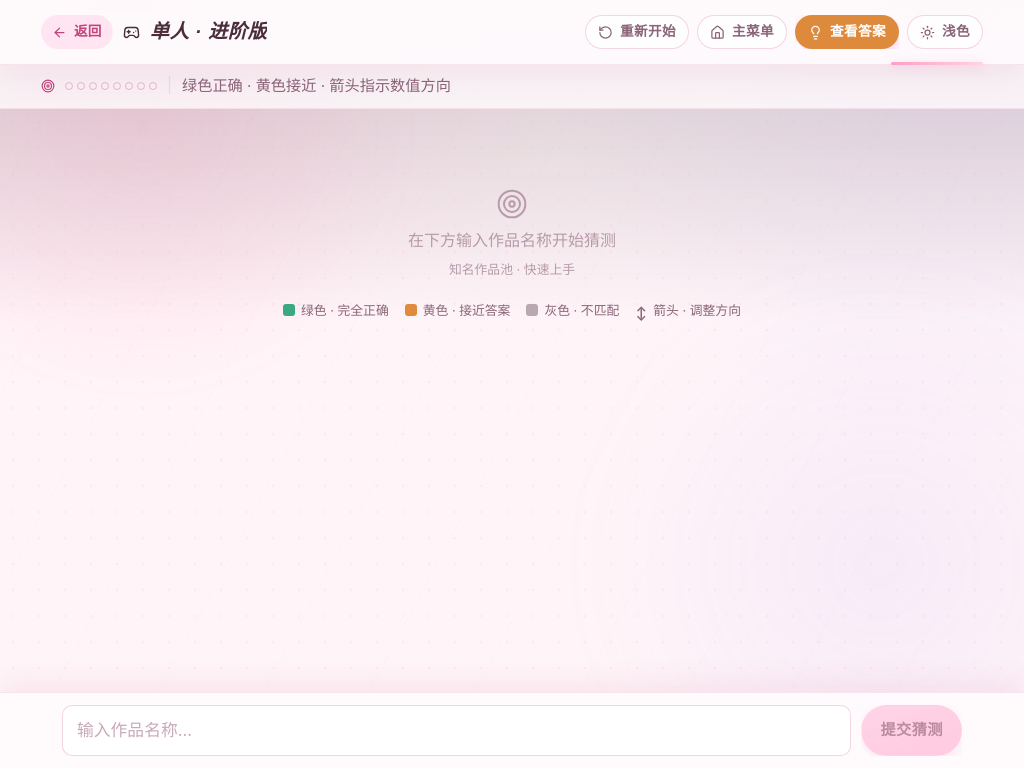
Test: SingleGame UX › confirms returning to the difficulty lobby with lobby-specific copy
Check: the dropdown with placeholder "输入作品名称..." is enabled, box [62,705,851,756]
Step 1. Click the button "返回" → point(77, 32), box [41,15,113,49]
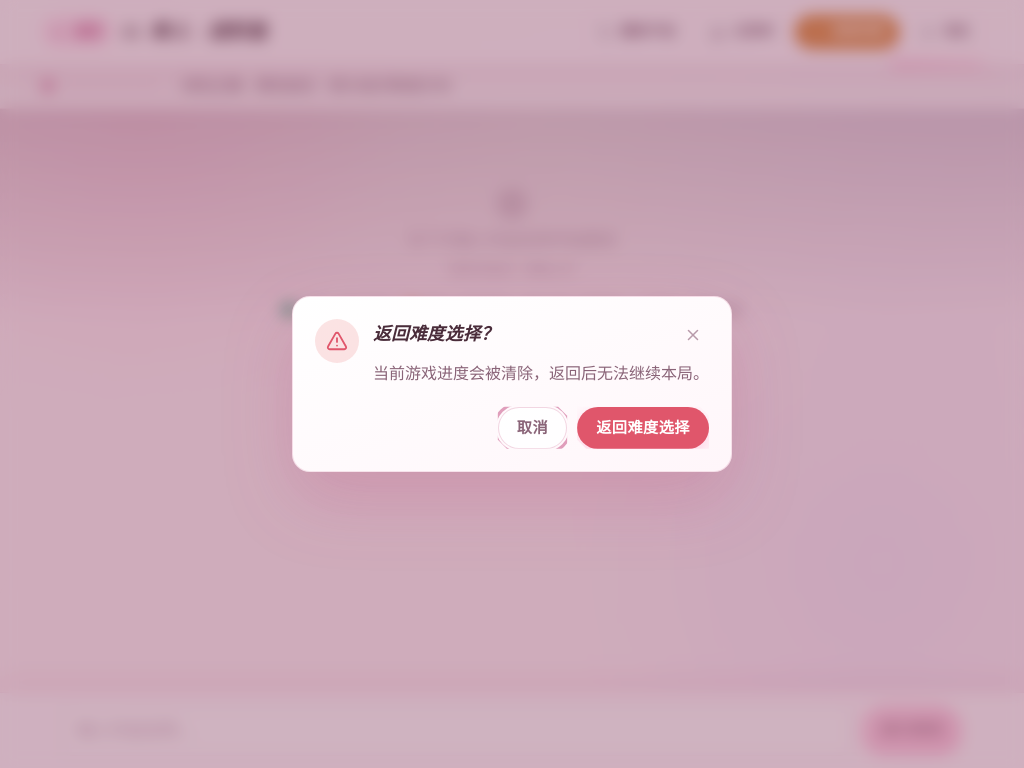
Check: the dialog does not show "返回主菜单", box [292,296,732,472]
Check: the dialog shows "返回难度选择？", box [373,324,499,344]
Check: the button "返回难度选择" is shown, box [577,407,709,449]
